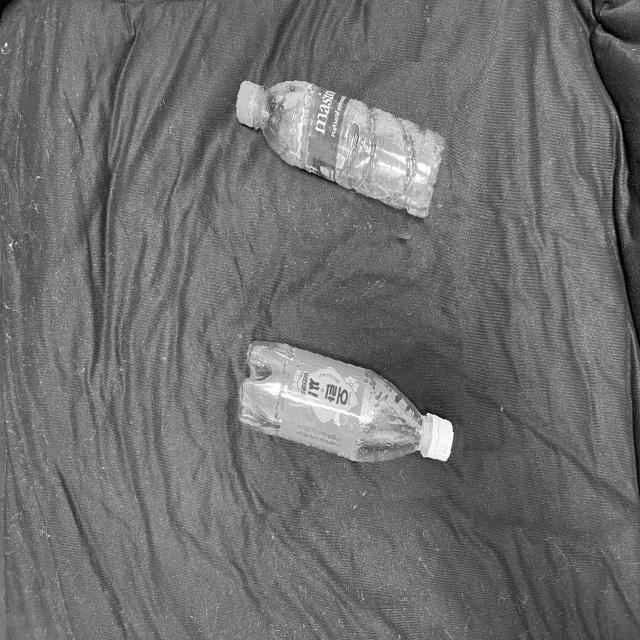plastic bottle: (221, 328, 463, 495), (221, 62, 452, 235)
